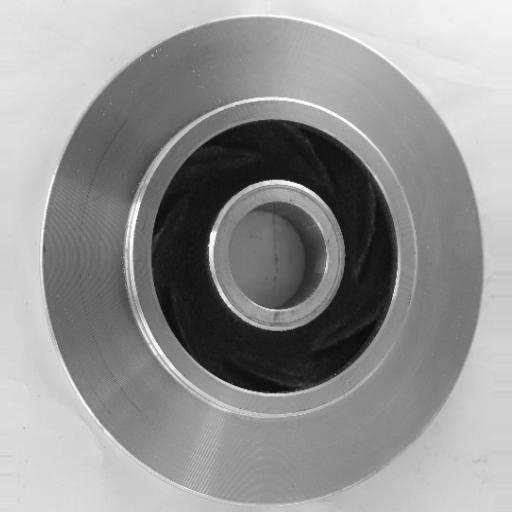polished_casting: (40, 14, 484, 510)
